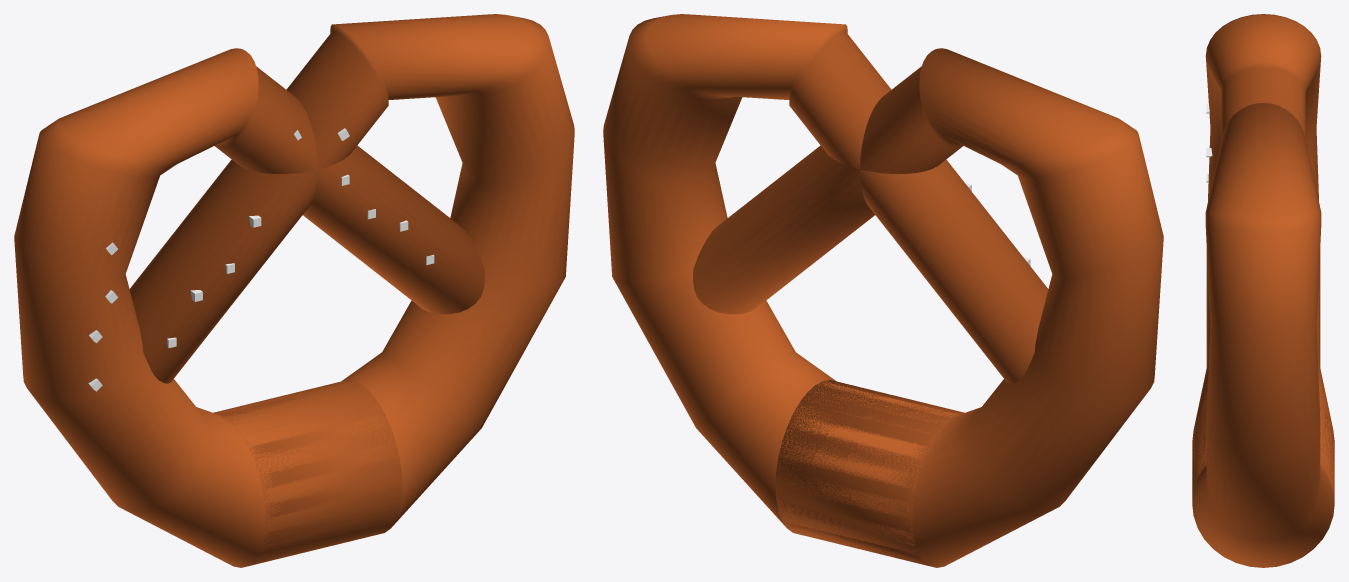
Rendered from pretzel.glb.
3 views of the same model, side by side, from view 1: azimuth 30°, elevation 25°; view 2: azimuth 150°, elevation 25°; view 3: azimuth 270°, elevation 25° (orthographic). The views are drawn at different scales.
Visible parts, largest first — view 1: Cylinder_2; view 2: Cylinder_2; view 3: Cylinder_2.
Part boxes in pixels (left/top/right/bottom): Cylinder_2: left=14, top=14, right=574, bottom=567; Cylinder_2: left=603, top=14, right=1163, bottom=567; Cylinder_2: left=1192, top=14, right=1334, bottom=567.
Size of the model in its own units: 2.55 by 2.26 by 0.6421.
